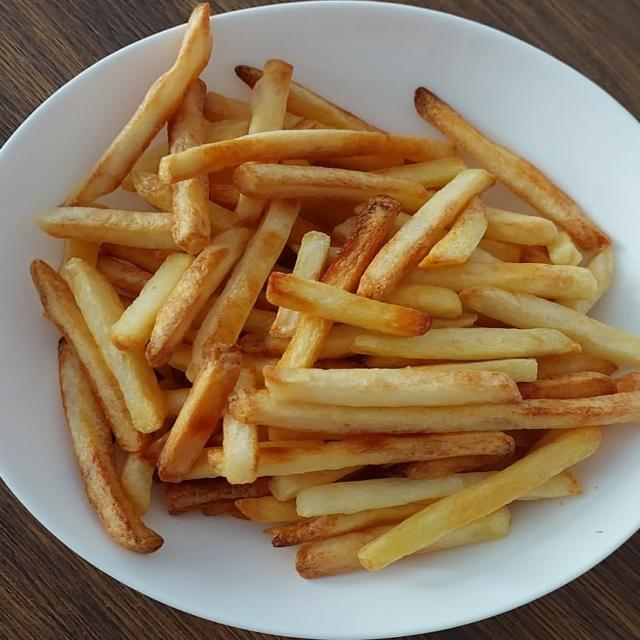potato fries: (32, 6, 639, 578), (358, 427, 600, 570), (415, 88, 610, 250), (67, 3, 212, 204), (31, 261, 148, 451), (59, 342, 162, 553), (188, 200, 300, 380), (230, 391, 639, 435), (63, 259, 167, 432), (358, 169, 494, 299), (160, 130, 452, 182), (147, 228, 249, 367), (461, 288, 639, 365), (158, 346, 241, 482), (257, 433, 512, 475), (267, 273, 431, 335), (264, 368, 520, 407), (234, 164, 433, 213), (297, 472, 497, 516), (110, 253, 194, 350), (265, 501, 430, 547), (321, 197, 400, 291), (354, 328, 580, 360), (407, 262, 597, 299), (37, 207, 179, 250), (297, 526, 390, 578), (419, 197, 486, 267), (288, 83, 380, 131), (166, 478, 269, 515), (558, 248, 613, 314), (248, 60, 292, 134), (270, 466, 362, 500), (385, 454, 510, 479), (172, 175, 210, 253), (374, 157, 467, 188), (418, 358, 538, 381), (486, 207, 558, 245), (386, 284, 462, 319), (519, 372, 618, 398), (223, 412, 258, 484), (97, 255, 152, 296), (101, 243, 170, 273), (121, 454, 154, 516), (537, 353, 617, 378), (293, 232, 330, 280), (236, 496, 303, 522), (239, 335, 293, 366), (133, 173, 173, 210), (547, 232, 582, 265), (479, 238, 526, 262), (614, 372, 639, 392)
